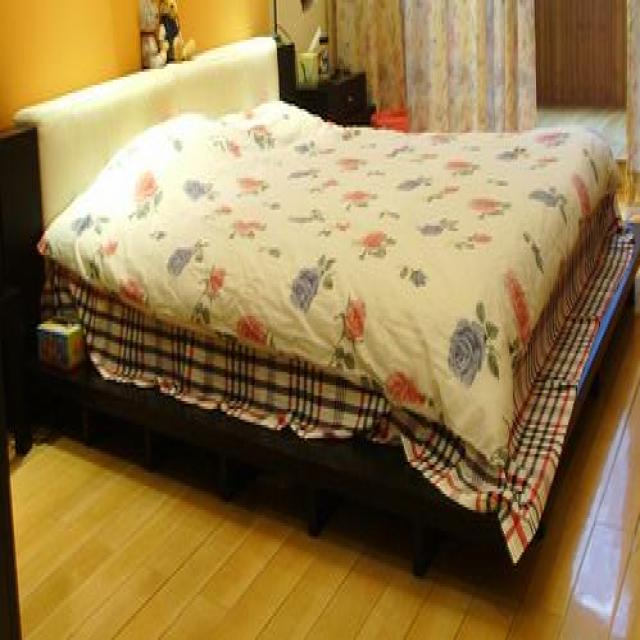bed: (10, 32, 639, 576)
